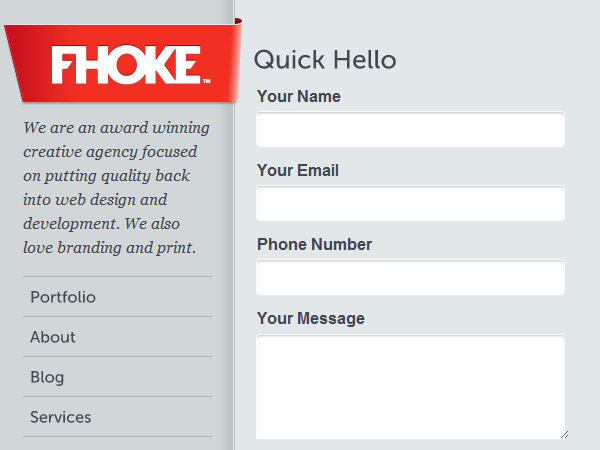_form_: (165, 34, 581, 450)
field: (254, 333, 567, 440), (256, 109, 567, 149), (256, 184, 565, 223), (253, 259, 566, 296)
field_with_label: (252, 310, 569, 442), (253, 88, 569, 152), (254, 161, 568, 225), (252, 238, 568, 298)
